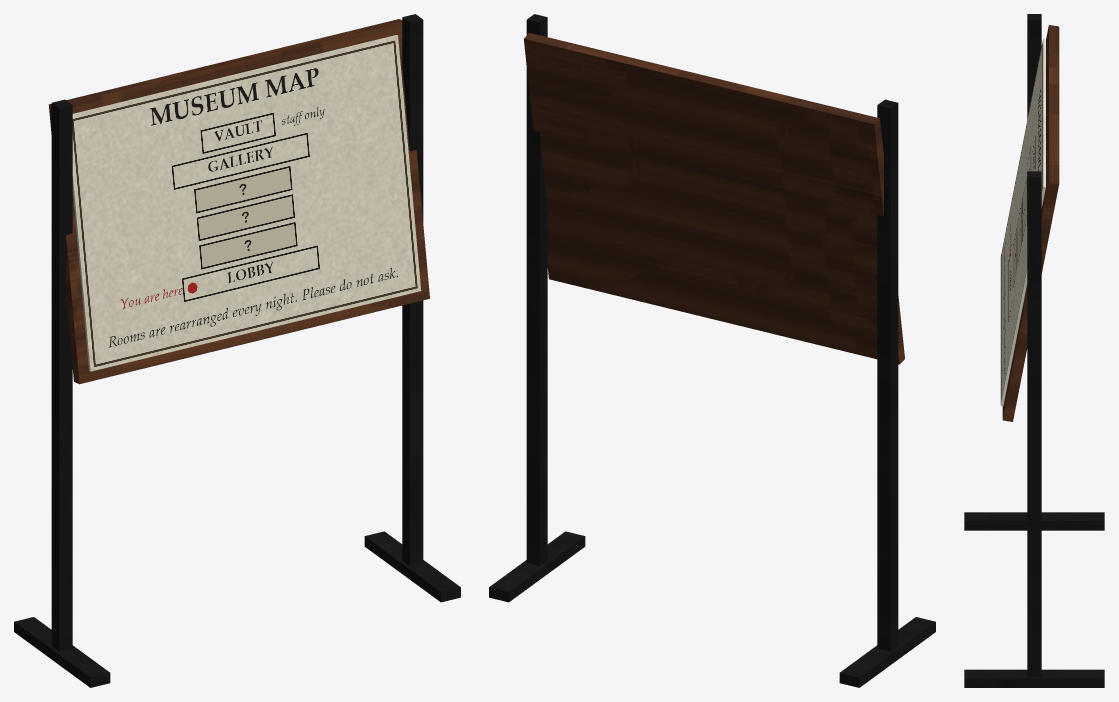
Rendered from map_board.gltf.
The picture shows the model from 3 angles, left to right: view 1: azimuth 30°, elevation 25°; view 2: azimuth 150°, elevation 25°; view 3: azimuth 270°, elevation 25°; orthographic projection. The views are drawn at different scales.
Visible parts, largest first — view 1: MapBoard; view 2: MapBoard; view 3: MapBoard.
Part boxes in pixels (x1,y1,x2,y2): MapBoard: (14, 14, 460, 687); MapBoard: (489, 14, 935, 687); MapBoard: (964, 14, 1104, 687).
Bounding box in the file's own units: 1.12 × 1.6 × 0.4.
3 materials, 3 textured.
